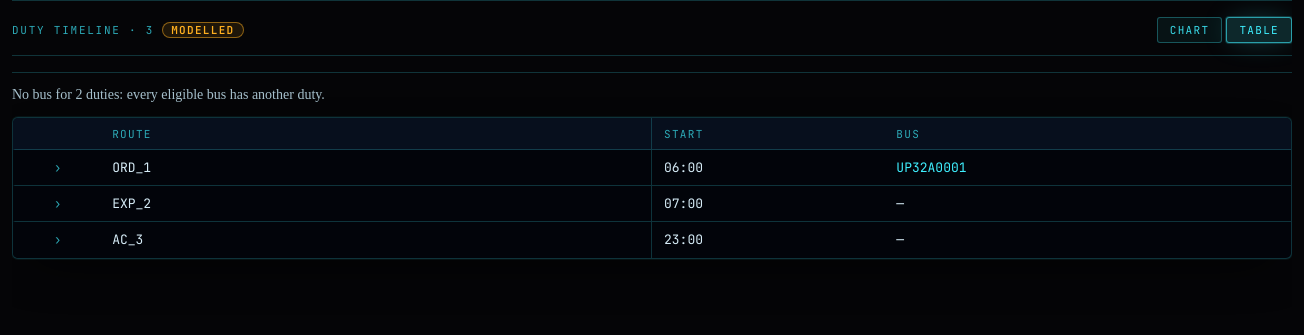
Test: DutyBoard by width › opens as the table under 640 px, with the chart one press away
Expected: the table is shown, [13,118,1291,258]
Click the button "Chart" at {"x": 1190, "y": 30}, box [1157,17,1222,43]
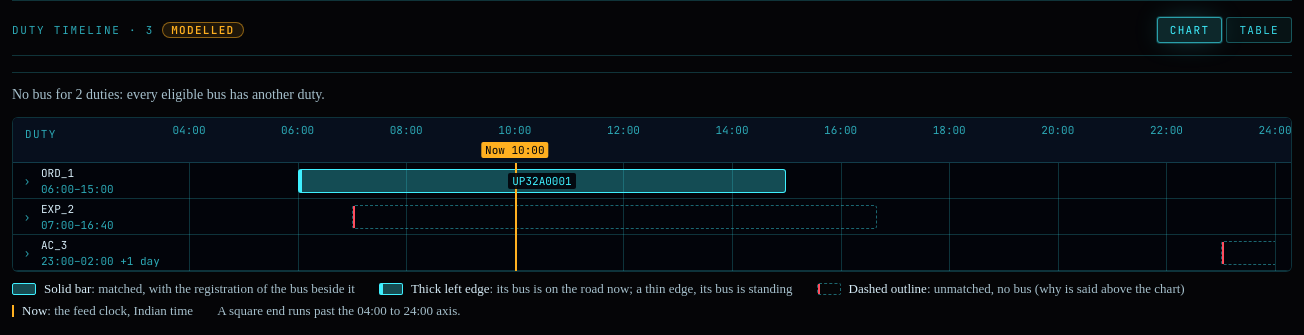
Expected: the table is gone
Expected: the number of elements with test id "duty-row" is 3, [13,163,1291,199]; [13,199,1291,235]; [13,235,1291,271]
